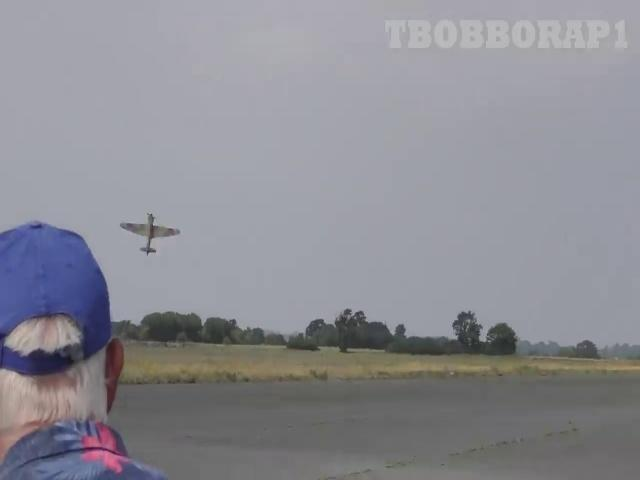Airplane: (120, 213, 180, 255)
